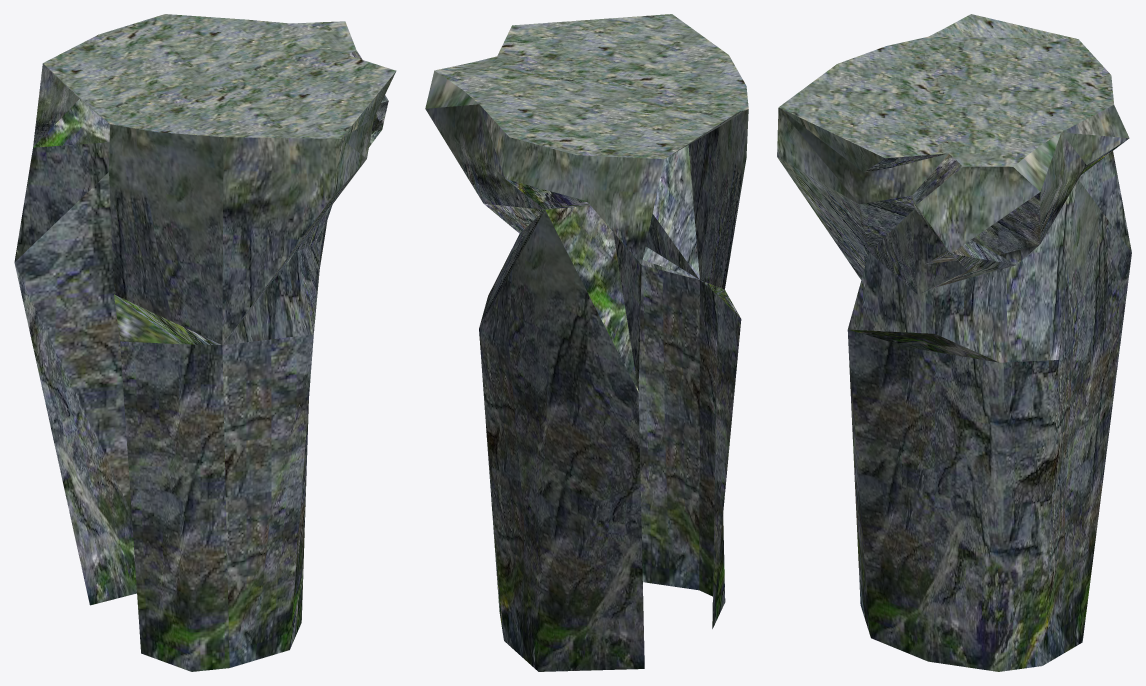
File: nder100.obj
3 renders of one model, left to right at view 1: azimuth 30°, elevation 25°; view 2: azimuth 150°, elevation 25°; view 3: azimuth 270°, elevation 25°, orthographic. The views are drawn at different scales.
Visible parts, largest first — view 1: nder100; view 2: nder100; view 3: nder100.
Part boxes in pixels (<box>): nder100: <box>14,14,396,671</box>; nder100: <box>425,14,748,671</box>; nder100: <box>777,14,1131,671</box>.
Size of the model in its own units: 394 by 722 by 417.
